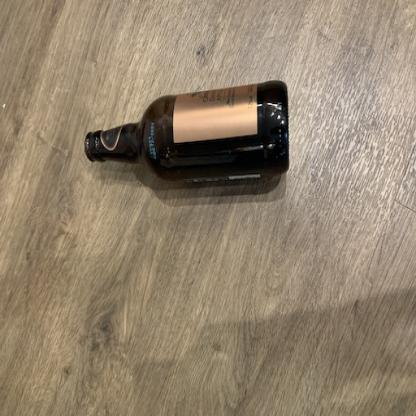trash: (81, 78, 294, 188)
